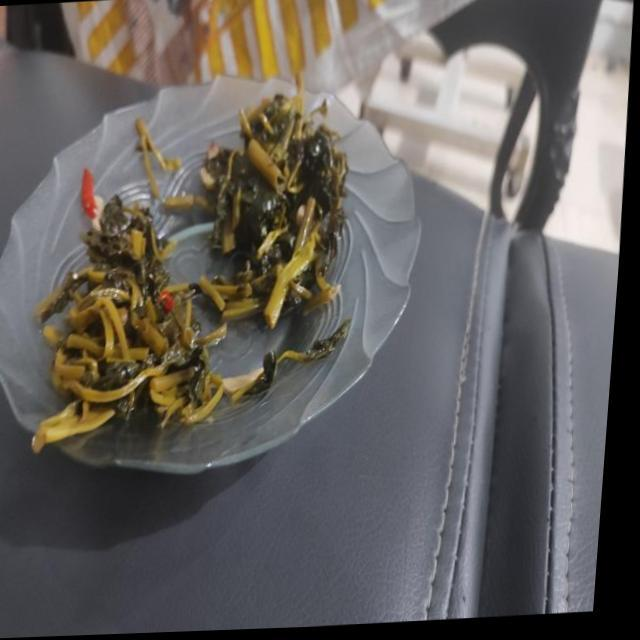tumis_kangkung: (32, 194, 226, 452), (200, 94, 348, 328)
